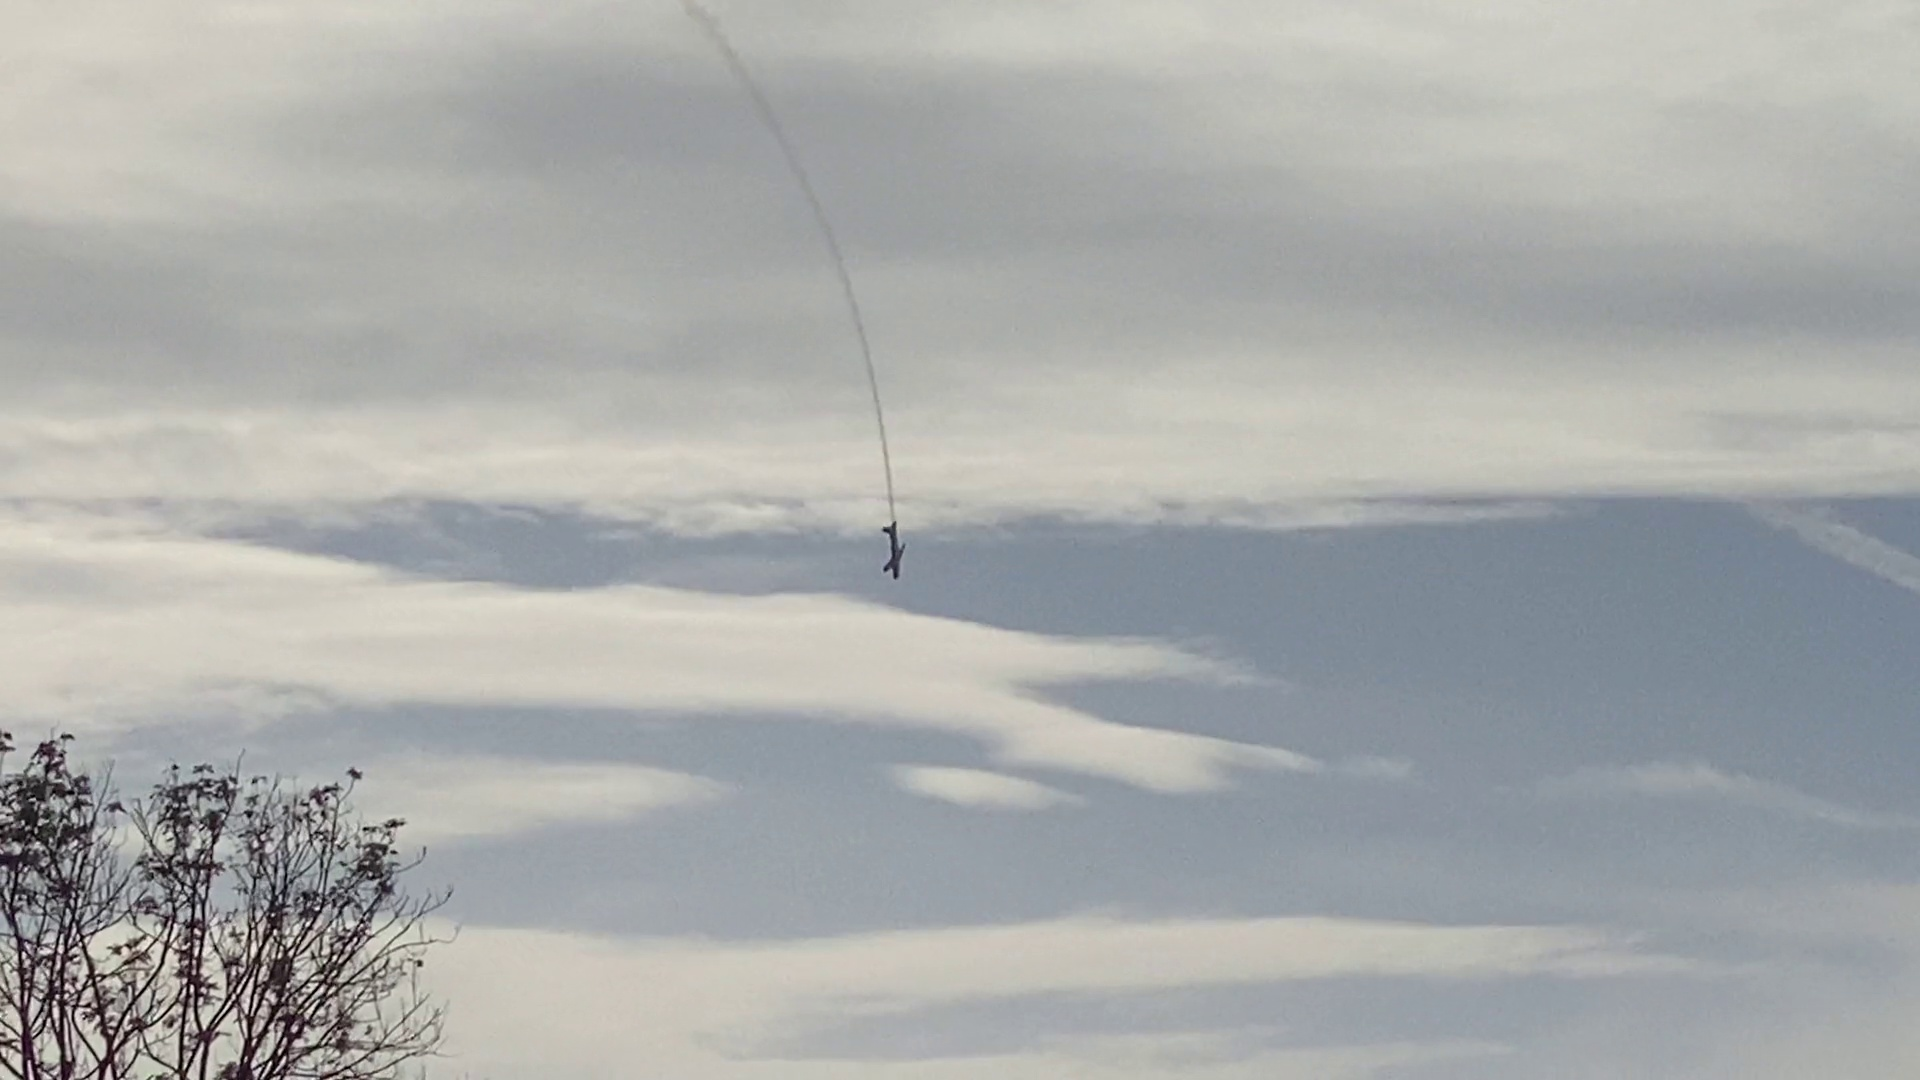plane: (880, 517, 907, 584)
